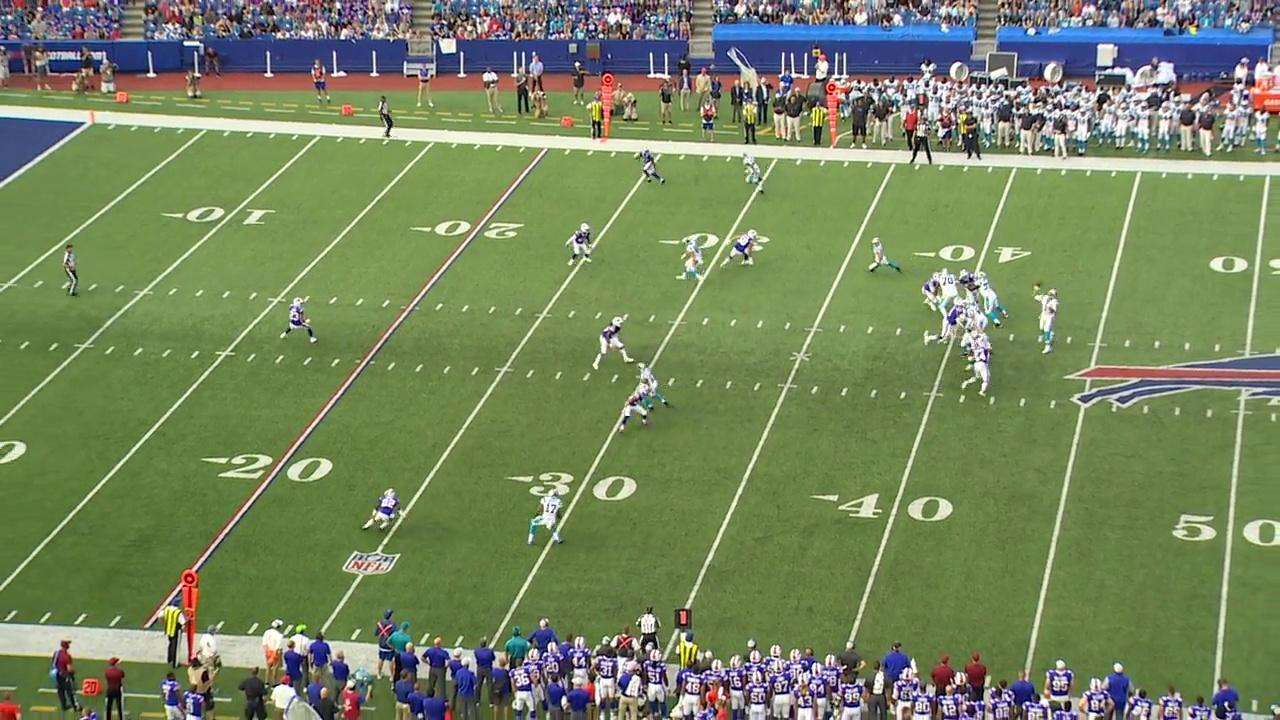five_hash: (134, 289, 154, 296), (354, 359, 376, 365), (777, 383, 799, 389), (74, 343, 95, 349), (268, 296, 286, 303), (400, 305, 421, 311), (667, 320, 688, 326), (534, 312, 553, 318), (215, 351, 236, 356), (923, 392, 944, 397), (495, 368, 515, 373), (804, 327, 824, 332), (1229, 411, 1253, 415), (1086, 343, 1109, 347), (0, 283, 18, 288), (1236, 351, 1260, 354)
hash: (104, 345, 116, 355), (18, 340, 30, 350), (330, 358, 341, 368), (1048, 399, 1057, 410), (752, 381, 761, 392), (246, 353, 257, 362), (161, 348, 172, 357), (133, 348, 144, 357), (1206, 408, 1214, 420), (988, 395, 996, 407), (34, 279, 44, 288), (1018, 398, 1027, 408), (898, 391, 907, 401), (868, 389, 878, 398), (810, 385, 819, 395), (582, 372, 591, 382), (303, 356, 312, 366), (190, 350, 200, 359), (49, 342, 59, 351), (1110, 402, 1118, 413), (840, 387, 849, 396), (415, 363, 424, 372), (386, 362, 395, 371), (275, 355, 284, 364), (1183, 341, 1191, 351), (1213, 342, 1221, 352), (1174, 406, 1182, 416), (1142, 405, 1150, 415), (958, 394, 966, 404), (61, 281, 70, 289), (195, 288, 204, 296), (249, 292, 258, 300), (355, 298, 364, 306), (488, 305, 496, 314), (1270, 413, 1278, 422), (696, 379, 704, 388), (667, 377, 675, 386), (611, 374, 619, 383), (526, 370, 534, 379), (471, 367, 479, 376), (443, 365, 451, 374), (725, 380, 732, 390), (555, 371, 562, 381), (329, 296, 337, 304), (382, 300, 390, 308), (435, 303, 443, 311), (568, 310, 576, 318), (88, 283, 97, 290), (115, 285, 124, 292), (222, 291, 231, 298), (756, 319, 763, 328), (839, 324, 846, 333), (895, 327, 902, 336), (1123, 339, 1130, 348), (1153, 340, 1160, 349), (169, 288, 177, 295), (462, 304, 469, 312), (515, 307, 522, 315), (702, 317, 709, 325), (730, 319, 737, 327), (784, 322, 791, 330), (867, 326, 874, 334), (1066, 336, 1073, 344), (303, 296, 310, 303), (595, 312, 602, 319), (649, 314, 655, 322), (1009, 334, 1015, 341), (624, 313, 629, 321)
marker: (178, 567, 200, 664), (598, 72, 615, 137), (824, 82, 840, 146)
number: (808, 489, 958, 527), (198, 451, 341, 486), (506, 470, 638, 504), (1167, 510, 1280, 548), (405, 216, 527, 244), (909, 241, 1034, 267), (157, 204, 279, 229), (1206, 250, 1280, 277)
player: (88, 108, 97, 124)
